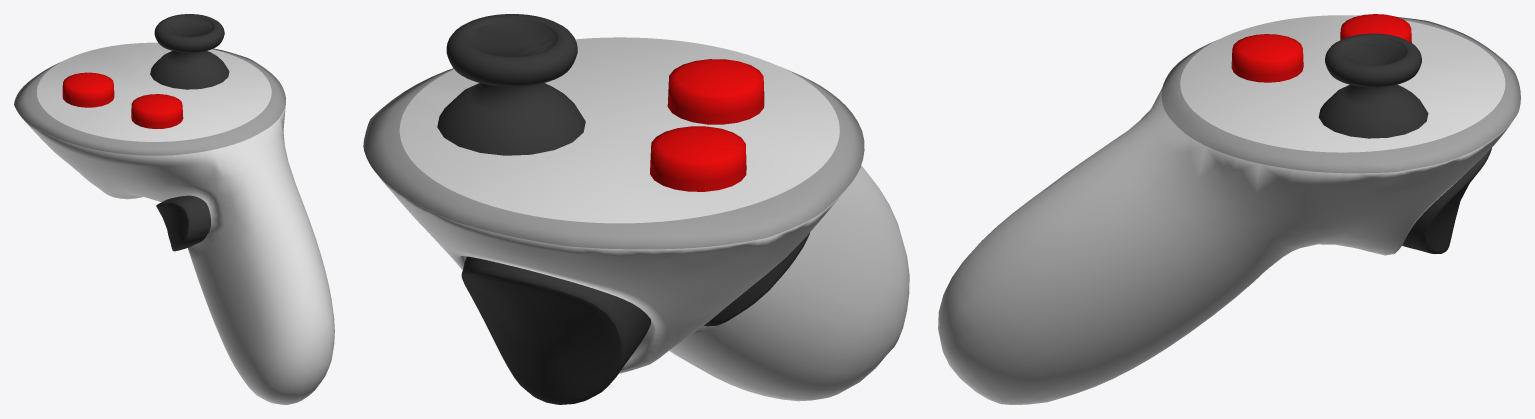
The model's file is R_XR_controller.glb.
3 views of the same model, side by side, from view 1: azimuth 30°, elevation 25°; view 2: azimuth 150°, elevation 25°; view 3: azimuth 270°, elevation 25° (orthographic). The views are drawn at different scales.
Visible parts, largest first — view 1: R_XR_mando, R_XR_joystick, R_XR_grab, R_XR_BY_button, R_XR_AX_button; view 2: R_XR_mando, R_XR_trigger, R_XR_joystick, R_XR_AX_button, R_XR_BY_button, R_XR_grab; view 3: R_XR_mando, R_XR_joystick, R_XR_AX_button, R_XR_trigger, R_XR_BY_button.
Part boxes in pixels (x1,y1,x2,y2): R_XR_mando: (14, 42, 334, 404); R_XR_joystick: (150, 14, 229, 89); R_XR_grab: (156, 195, 210, 251); R_XR_BY_button: (62, 72, 114, 107); R_XR_AX_button: (131, 94, 183, 128); R_XR_mando: (363, 37, 909, 401); R_XR_trigger: (461, 256, 650, 404); R_XR_joystick: (437, 14, 585, 155); R_XR_AX_button: (667, 59, 764, 124); R_XR_BY_button: (650, 126, 746, 191); R_XR_grab: (704, 233, 809, 326); R_XR_mando: (938, 15, 1520, 404); R_XR_joystick: (1318, 33, 1428, 138); R_XR_AX_button: (1231, 34, 1303, 82); R_XR_trigger: (1402, 148, 1491, 253); R_XR_BY_button: (1340, 14, 1411, 42).
Size of the model in its own units: 0.0734 by 0.0815 by 0.1147.
